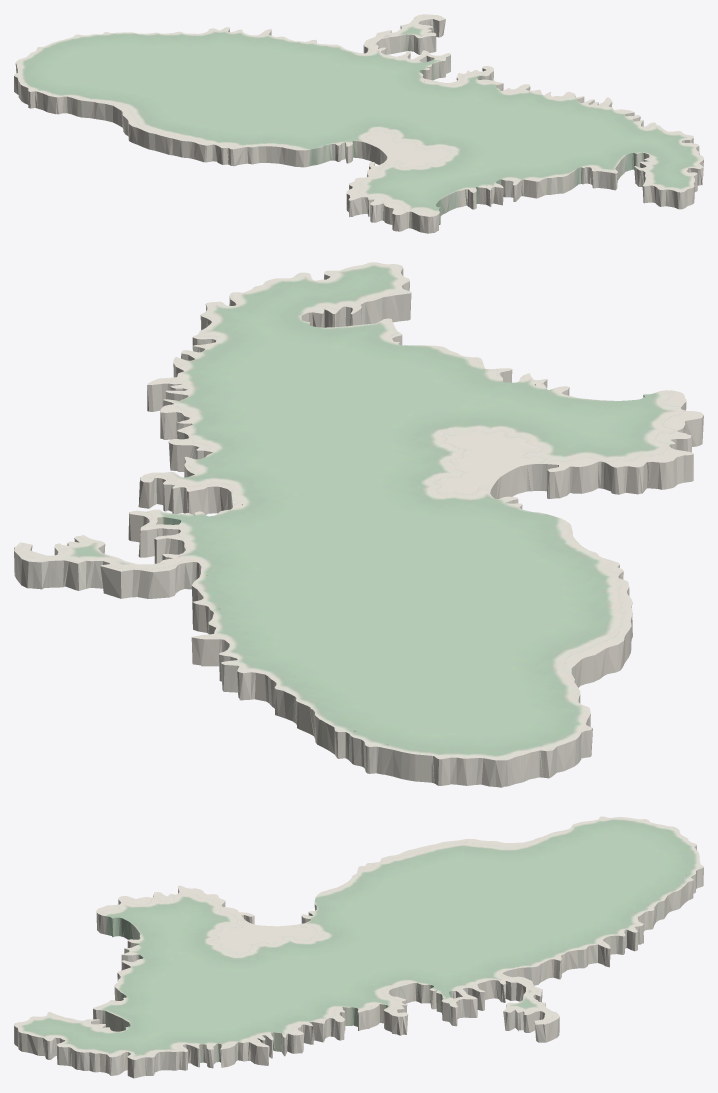
The model's file is martinique.glb.
3 renders of one model, top to bottom at view 1: azimuth 30°, elevation 25°; view 2: azimuth 150°, elevation 25°; view 3: azimuth 270°, elevation 25°, orthographic. The views are drawn at different scales.
Parts seen in each view (by area): view 1: tripo_node_d8a09597-01d5-4b11-8478-84a017ed006a; view 2: tripo_node_d8a09597-01d5-4b11-8478-84a017ed006a; view 3: tripo_node_d8a09597-01d5-4b11-8478-84a017ed006a.
Boxes of the visible parts, x1,y1,x2,y2 form: tripo_node_d8a09597-01d5-4b11-8478-84a017ed006a: [14, 14, 703, 233]; tripo_node_d8a09597-01d5-4b11-8478-84a017ed006a: [14, 262, 703, 787]; tripo_node_d8a09597-01d5-4b11-8478-84a017ed006a: [14, 816, 703, 1078].
Bounding box in the file's own units: 0.8352 × 0.03 × 1.
Materials: 1 (1 with a texture image).
